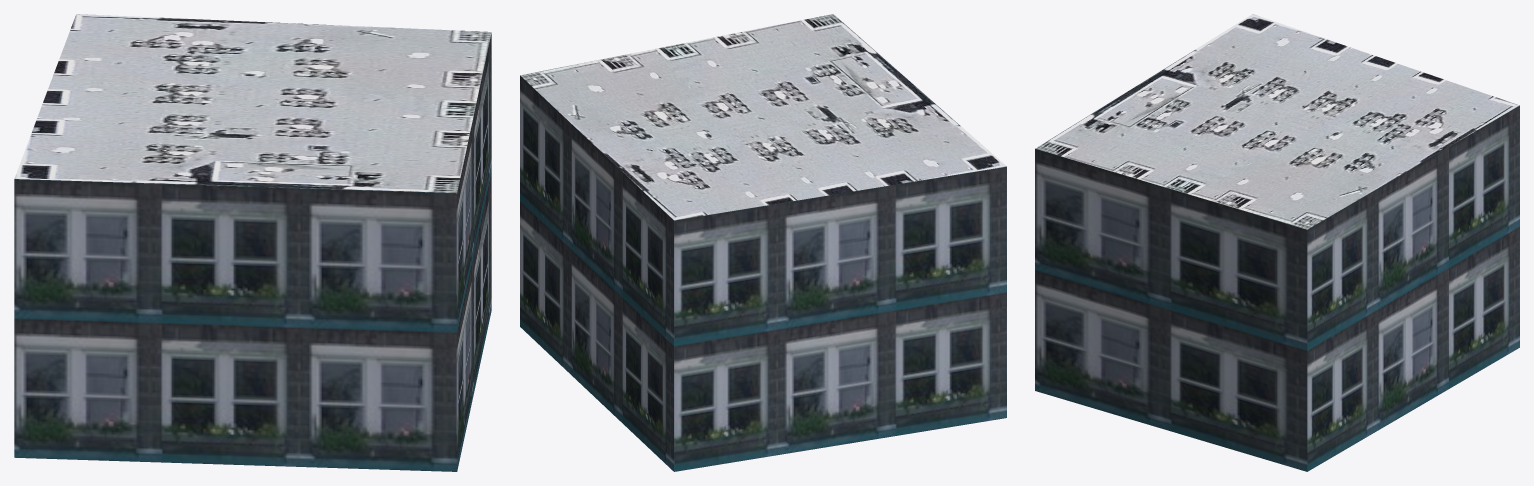
File: ResTex__3883.fbx
The picture shows the model from 3 angles, left to right: view 1: azimuth 30°, elevation 25°; view 2: azimuth 150°, elevation 25°; view 3: azimuth 270°, elevation 25°; orthographic projection. The views are drawn at different scales.
Visible parts, largest first — view 1: CityEngineMaterial_11_m, CityEngineMaterial_8_m; view 2: CityEngineMaterial_11_m, CityEngineMaterial_8_m; view 3: CityEngineMaterial_11_m, CityEngineMaterial_8_m.
Boxes of the visible parts, bbox=[...] form: CityEngineMaterial_11_m: bbox=[14, 33, 491, 471]; CityEngineMaterial_8_m: bbox=[14, 14, 491, 193]; CityEngineMaterial_11_m: bbox=[520, 75, 1006, 471]; CityEngineMaterial_8_m: bbox=[520, 14, 1006, 220]; CityEngineMaterial_11_m: bbox=[1035, 105, 1519, 471]; CityEngineMaterial_8_m: bbox=[1035, 14, 1519, 229].
Size of the model in its own units: 11.45 by 6 by 10.88.
2 materials, 2 textured.
